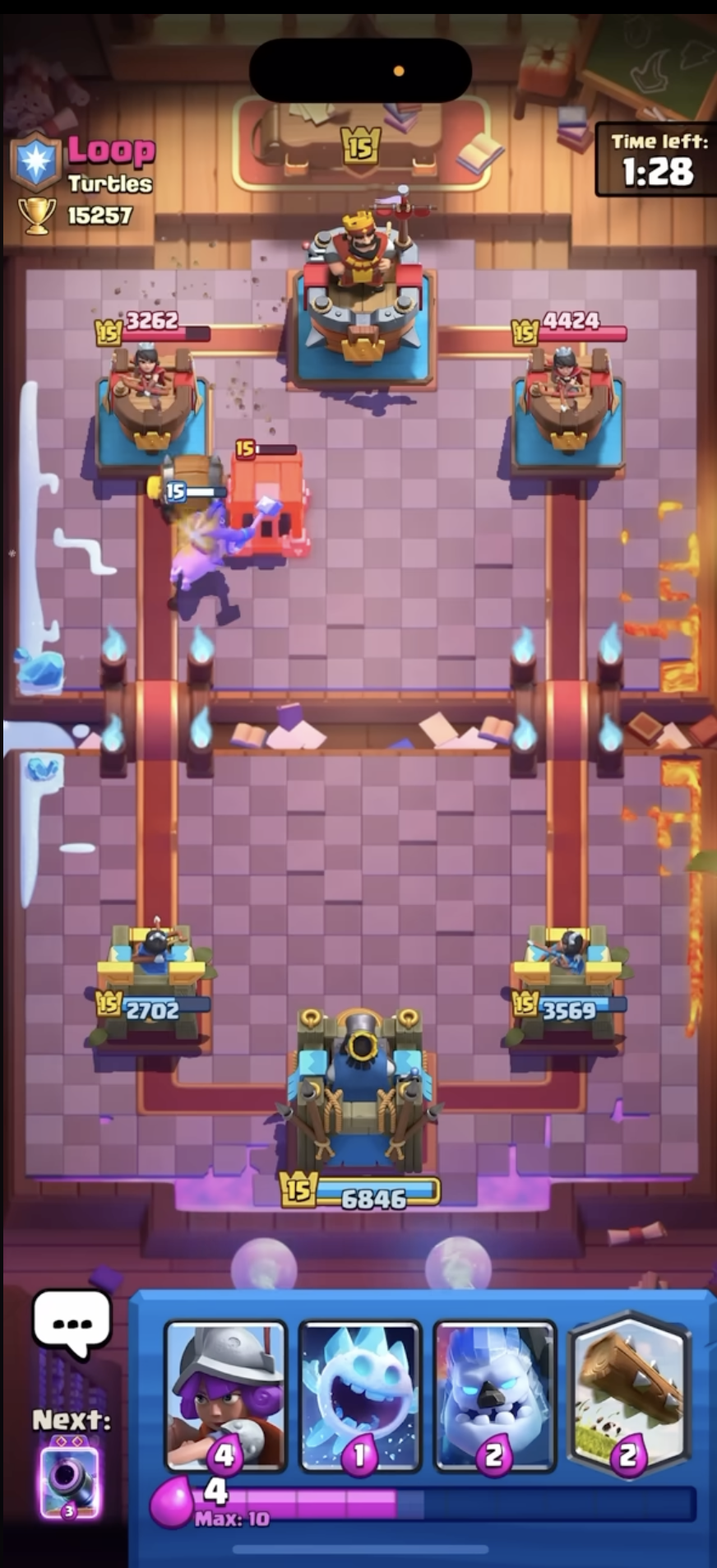goblin-cage: (225, 432, 321, 559)
